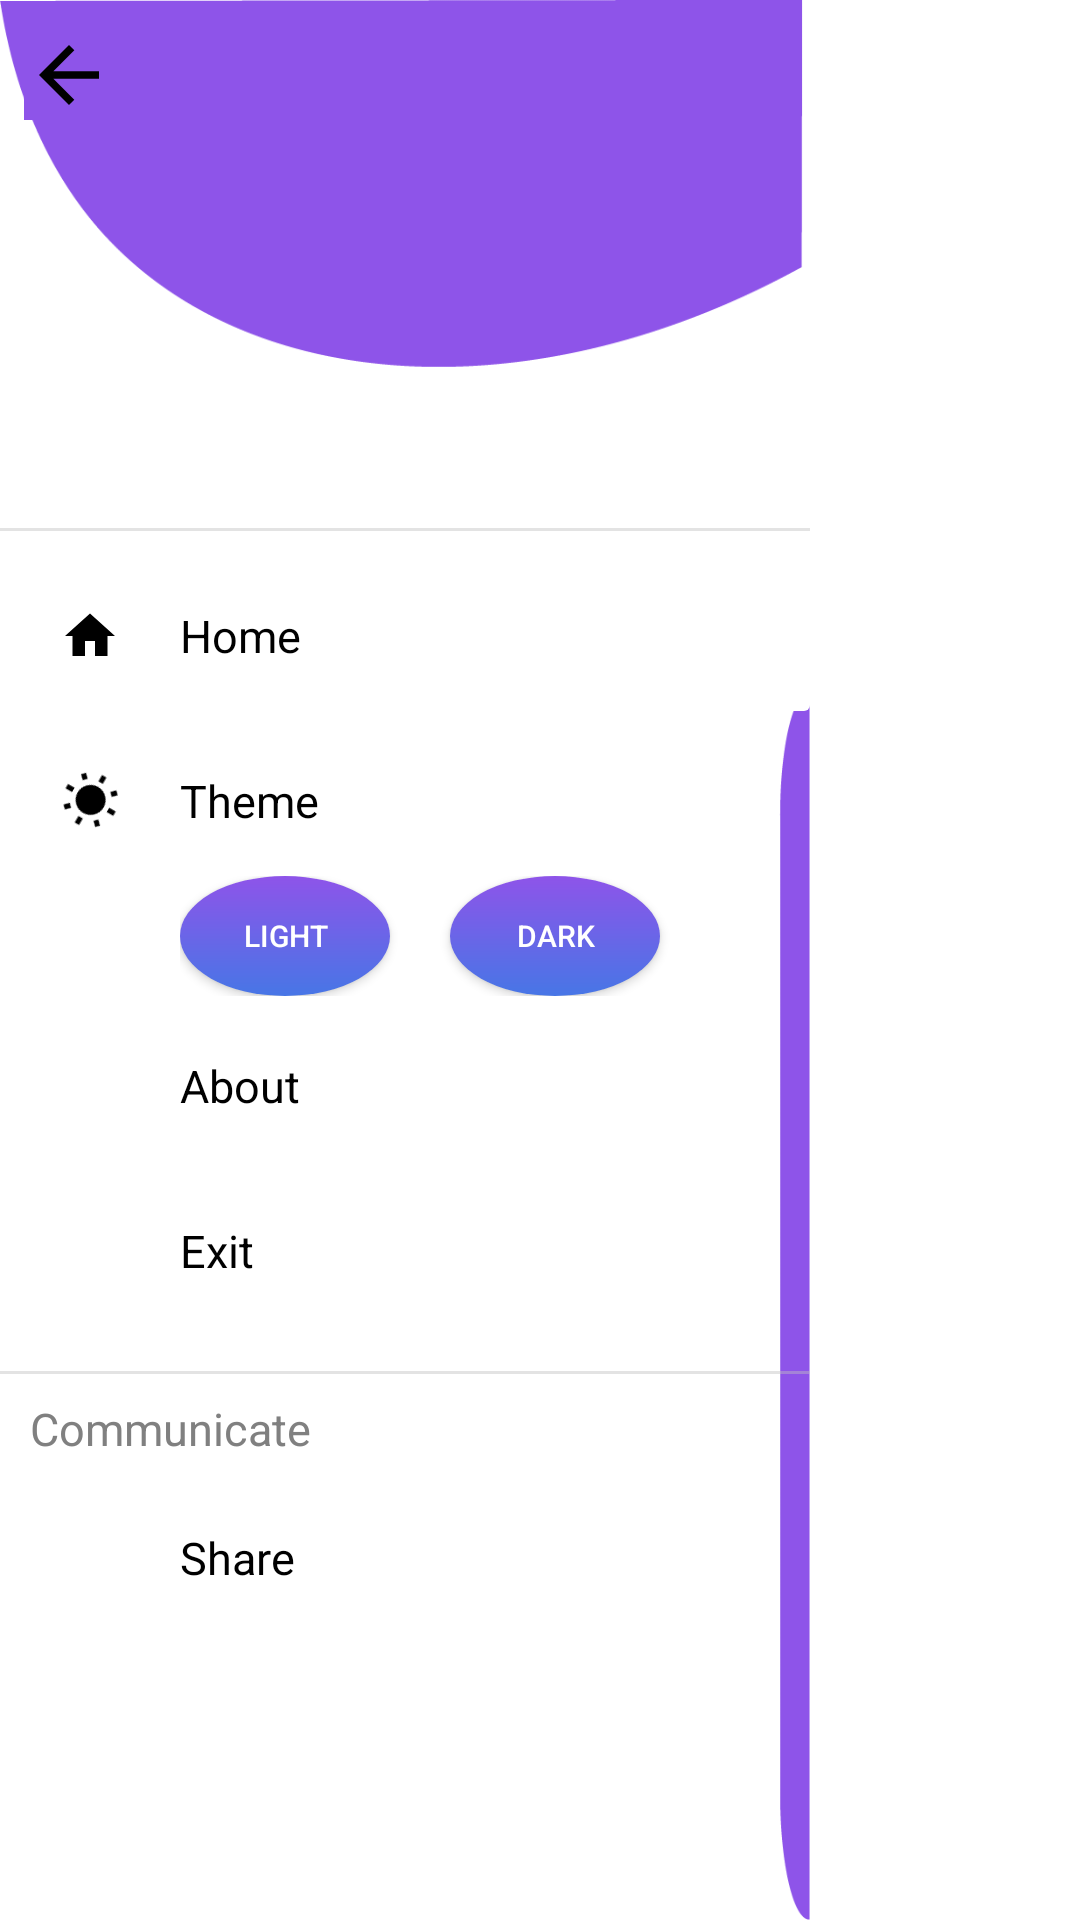

Named icons in this screenshot (1080px x 1920px) and their bounding boxes, (x1, y1, x2, y2):
arrow back: (39, 45, 99, 105)
